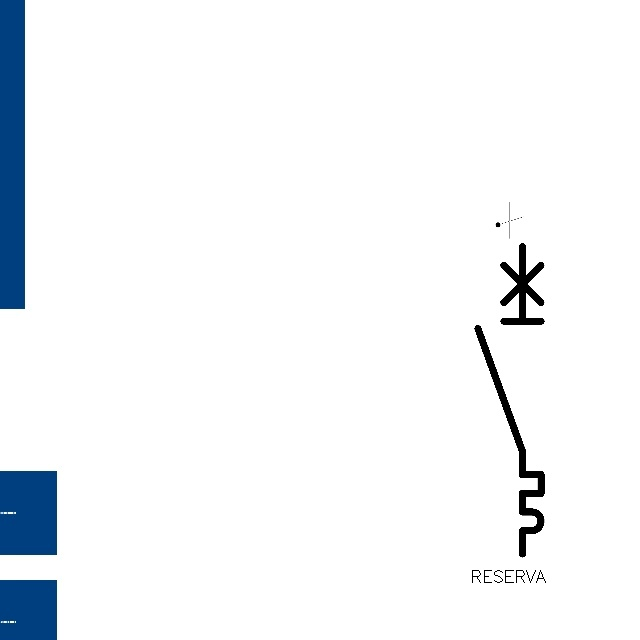interruptor_termomagnetico: (470, 238, 549, 561)
